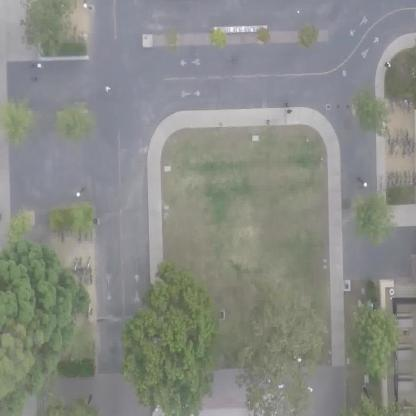Bicyclist: (223, 54, 244, 71), (98, 79, 113, 97)
Pedestrian: (93, 212, 109, 234), (380, 56, 396, 74), (286, 104, 300, 119), (264, 116, 277, 130), (282, 98, 292, 108)
